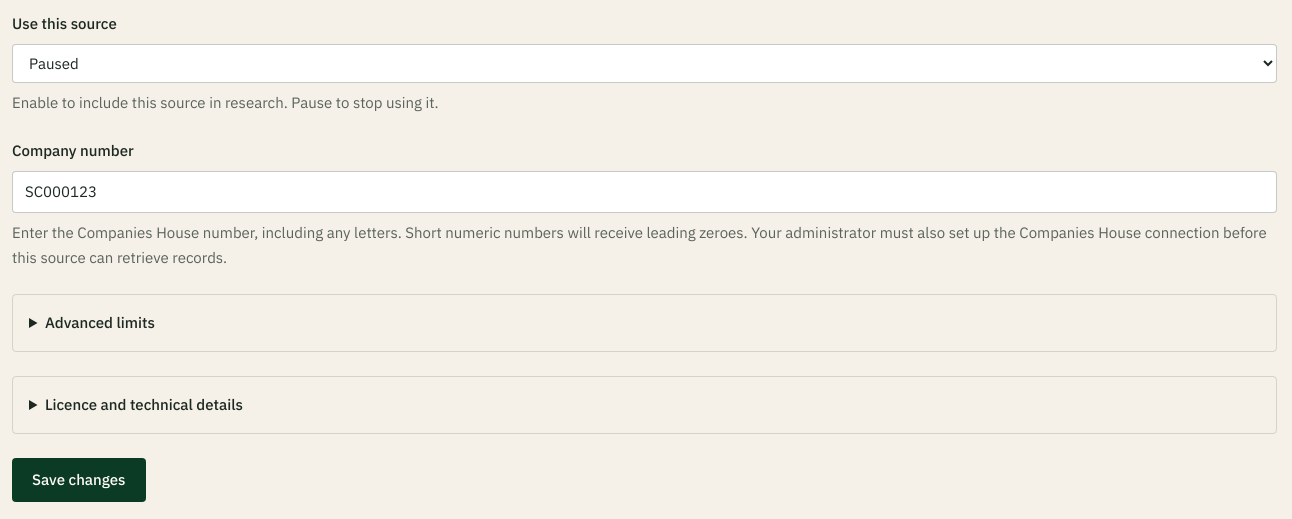
SourceConfiguration › keeps the user's choices when the server rejects a save
The width and height of the screenshot is (1292, 519).
Replace the text in the field labelled "Company number" with "SC987654" at (644, 192), box top-left (12, 171), bottom-right (1277, 213)
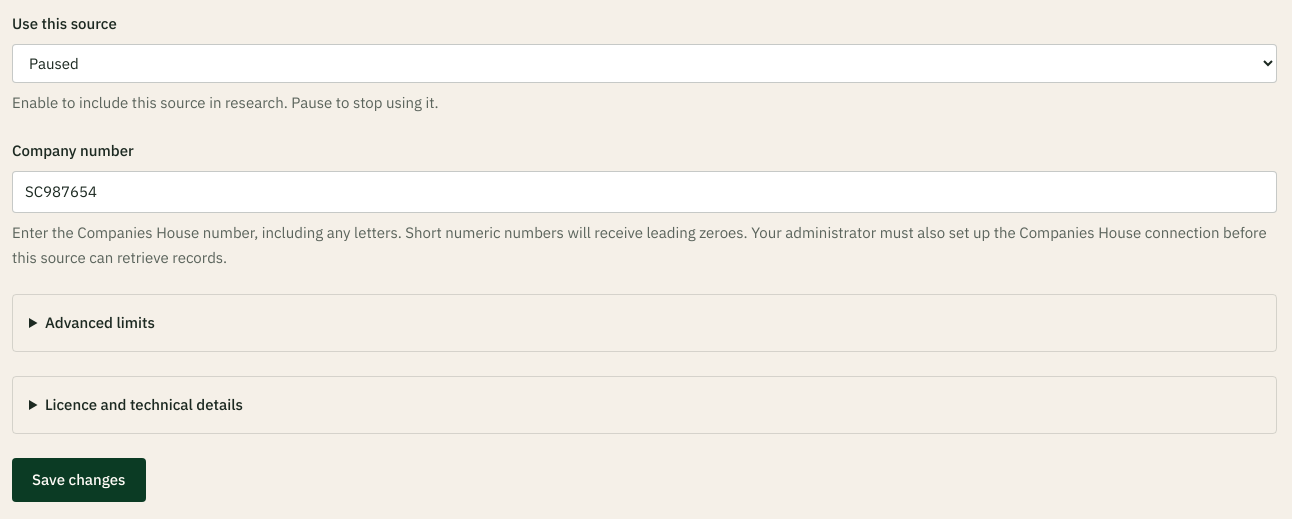
Select "Enabled for research" in the dropdown labelled "Use this source" at (644, 64), box top-left (12, 44), bottom-right (1277, 83)
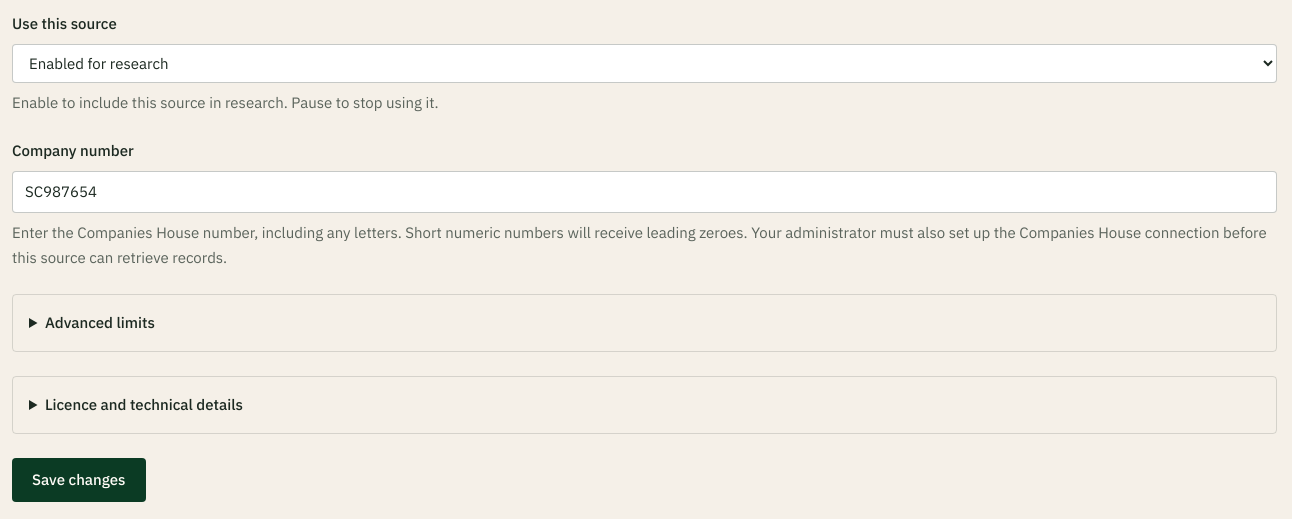
Click the button "Save changes" at (79, 480), box top-left (12, 458), bottom-right (146, 502)
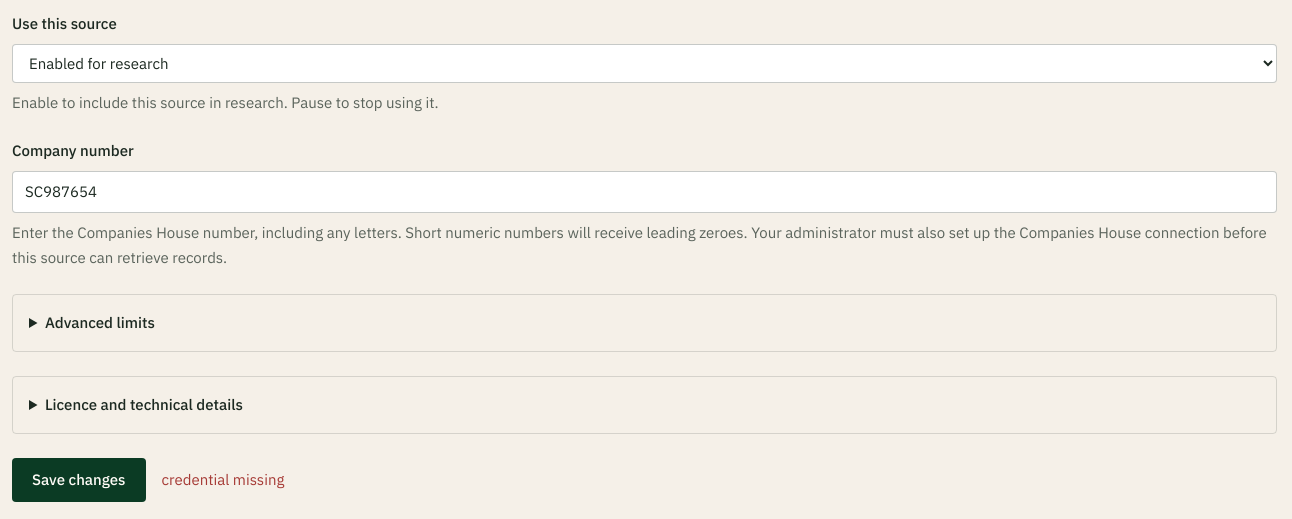
Result: the message reads "credential missing" at top-left (162, 470), bottom-right (284, 489)
